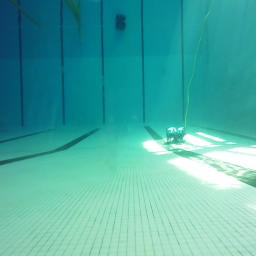front: (164, 126, 186, 144)
